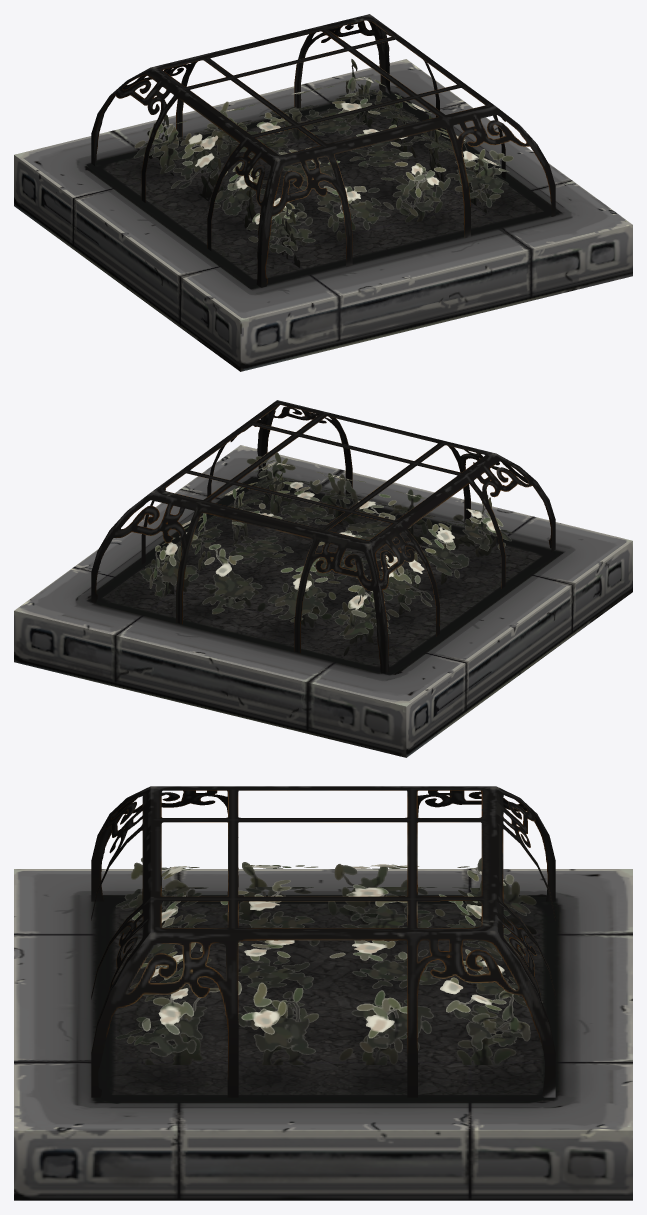
File: flower_box.fbx
3 renders of one model, top to bottom at view 1: azimuth 30°, elevation 25°; view 2: azimuth 150°, elevation 25°; view 3: azimuth 270°, elevation 25°, orthographic. The views are drawn at different scales.
Parts seen in each view (by area): view 1: Cube.004; view 2: Cube.004; view 3: Cube.004.
Part boxes in pixels (x1,y1,x2,y2): Cube.004: (14,14,632,371); Cube.004: (14,400,632,757); Cube.004: (14,786,632,1200).
Size of the model in its own units: 2 by 0.75 by 2.
